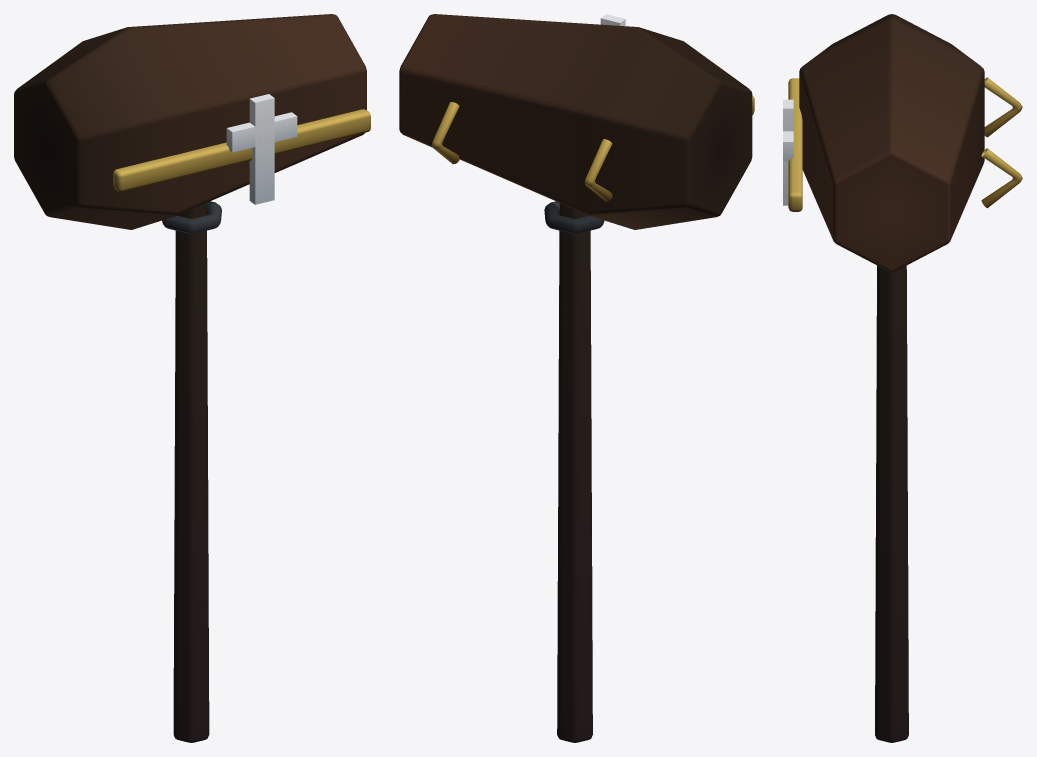
The model's file is lg_pallbearer_maul.glb.
The picture shows the model from 3 angles, left to right: view 1: azimuth 30°, elevation 25°; view 2: azimuth 150°, elevation 25°; view 3: azimuth 270°, elevation 25°; orthographic projection. The views are drawn at different scales.
Visible parts, largest first — view 1: lg_pallbearer_maul, lg_pallbearer_maul_trim; view 2: lg_pallbearer_maul; view 3: lg_pallbearer_maul, lg_pallbearer_maul_trim.
Boxes of the visible parts, x1,y1,x2,y2 form: lg_pallbearer_maul: [14, 14, 370, 742]; lg_pallbearer_maul_trim: [226, 94, 297, 204]; lg_pallbearer_maul: [399, 14, 754, 742]; lg_pallbearer_maul: [788, 14, 1022, 742]; lg_pallbearer_maul_trim: [783, 99, 793, 205].
Bounding box in the file's own units: 0.9 × 2.13 × 0.672.
